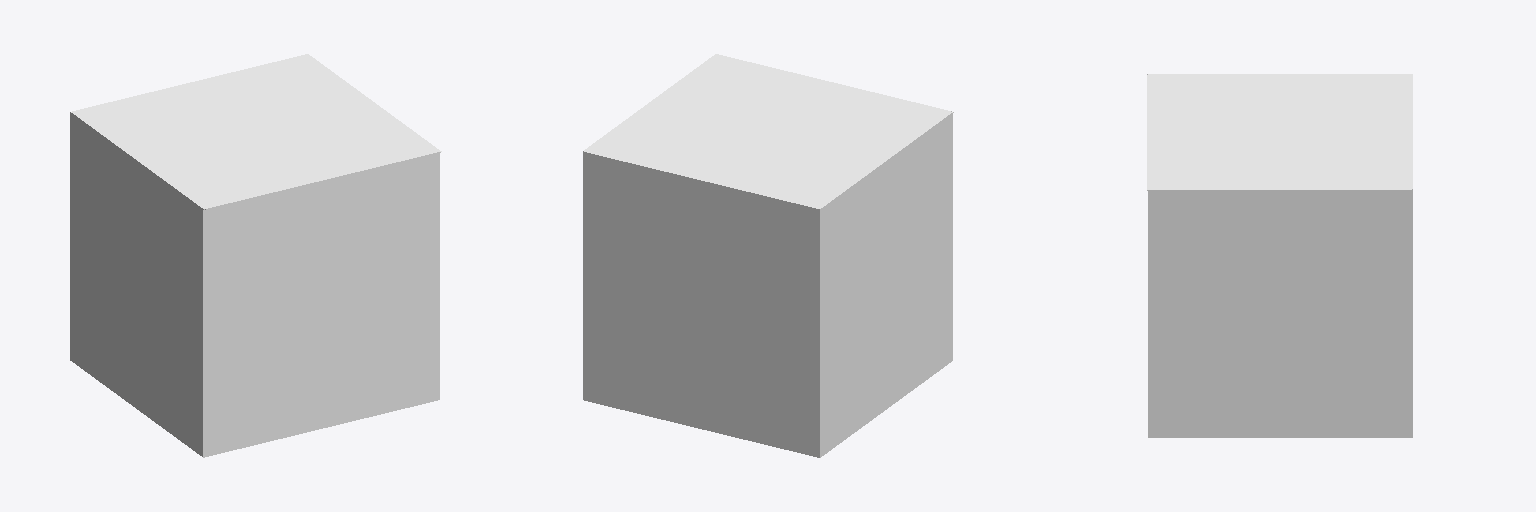
Rendered from 256cubescale.obj.
3 renders of one model, left to right at view 1: azimuth 30°, elevation 25°; view 2: azimuth 150°, elevation 25°; view 3: azimuth 270°, elevation 25°, orthographic.
Visible parts, largest first — view 1: object 1; view 2: object 1; view 3: object 1.
Boxes of the visible parts, x1=… form: object 1: x1=70, y1=54, x2=441, y2=457; object 1: x1=583, y1=54, x2=953, y2=457; object 1: x1=1147, y1=74, x2=1412, y2=437.
Size of the model in its own units: 25.6 by 25.6 by 24.9.